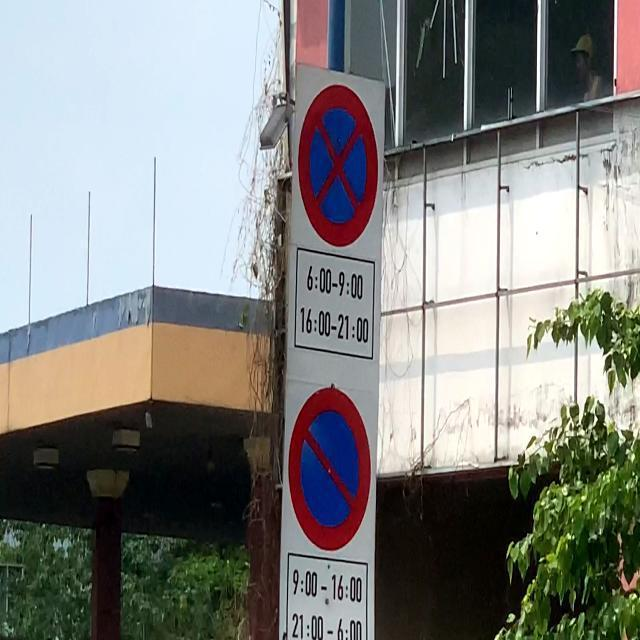130-cam-dung-va-do-xe: (296, 82, 378, 249)
131a-cam-do-xe: (286, 390, 372, 552)
